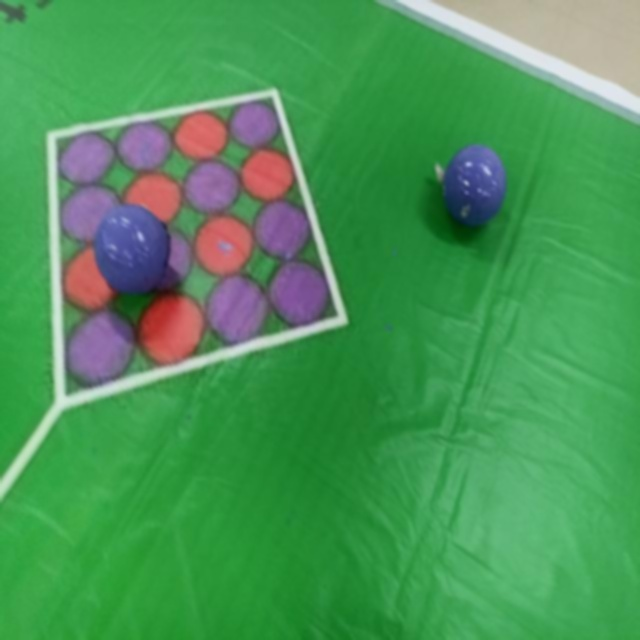purple_ball: (91, 196, 178, 302), (427, 139, 510, 233)
